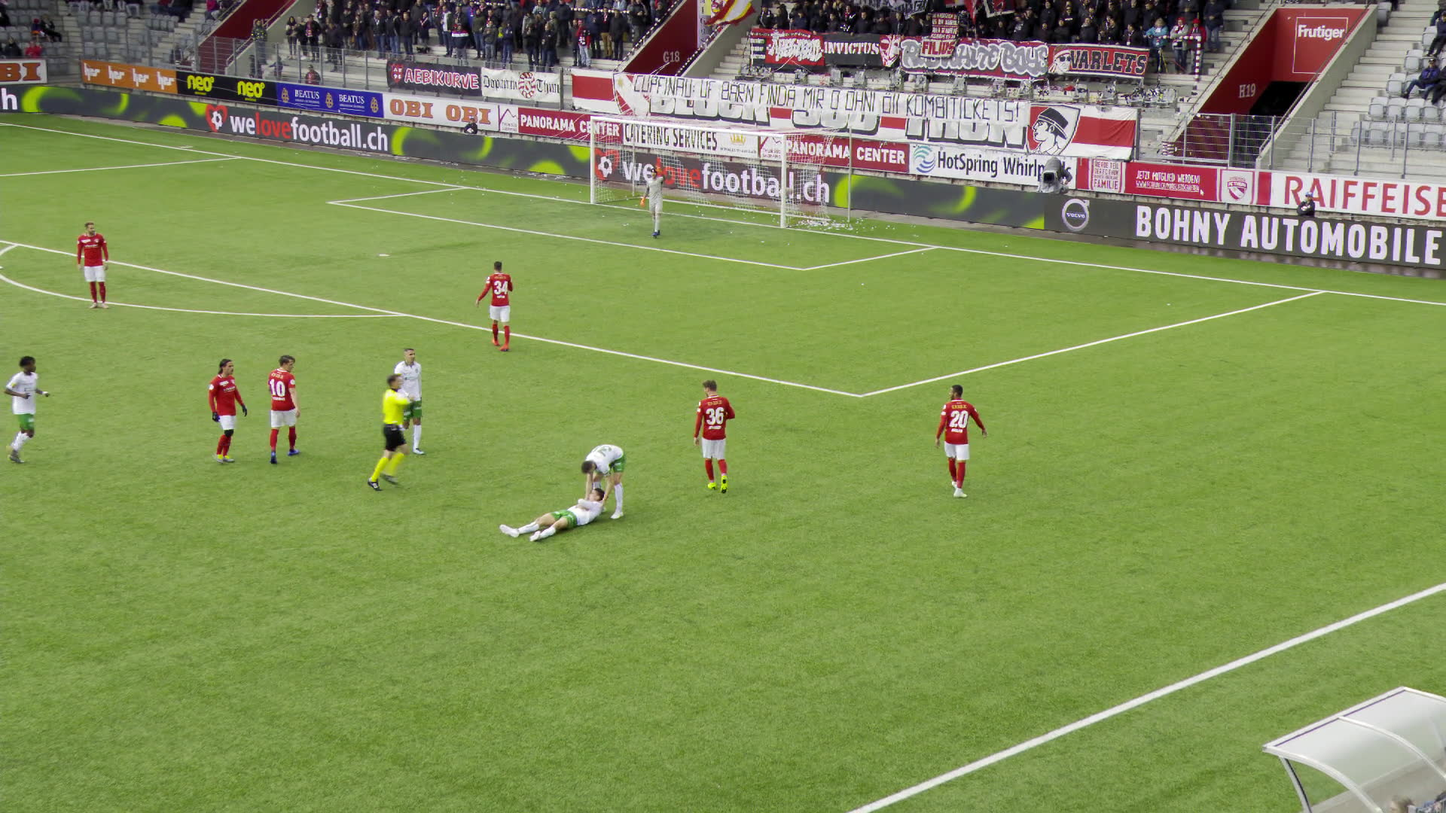player: (502, 479, 610, 542), (935, 383, 982, 497), (2, 355, 46, 467), (206, 357, 248, 462), (697, 381, 734, 494), (391, 348, 429, 454), (265, 355, 302, 461), (474, 257, 513, 352), (584, 439, 629, 519), (78, 222, 112, 309), (643, 168, 669, 236)
referee: (357, 376, 405, 491)
